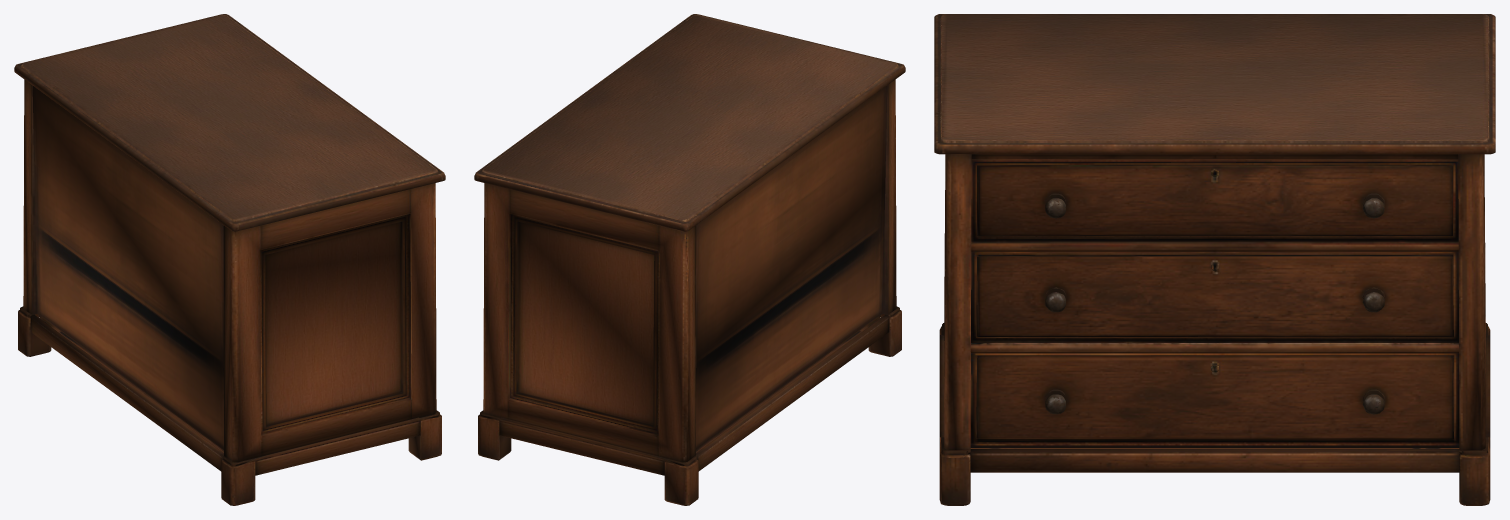
3 renders of one model, left to right at view 1: azimuth 30°, elevation 25°; view 2: azimuth 150°, elevation 25°; view 3: azimuth 270°, elevation 25°, orthographic. The views are drawn at different scales.
Visible parts, largest first — view 1: tripo_node_0b5a8c56-71b5-49f5-800c-1139ee84b7ce; view 2: tripo_node_0b5a8c56-71b5-49f5-800c-1139ee84b7ce; view 3: tripo_node_0b5a8c56-71b5-49f5-800c-1139ee84b7ce.
Boxes of the visible parts, <box> form: tripo_node_0b5a8c56-71b5-49f5-800c-1139ee84b7ce: <box>14,14,445,505</box>; tripo_node_0b5a8c56-71b5-49f5-800c-1139ee84b7ce: <box>474,14,905,505</box>; tripo_node_0b5a8c56-71b5-49f5-800c-1139ee84b7ce: <box>934,14,1495,505</box>.
Size of the model in its own units: 0.5684 by 0.7129 by 0.998.
Materials: 1 (1 with a texture image).
